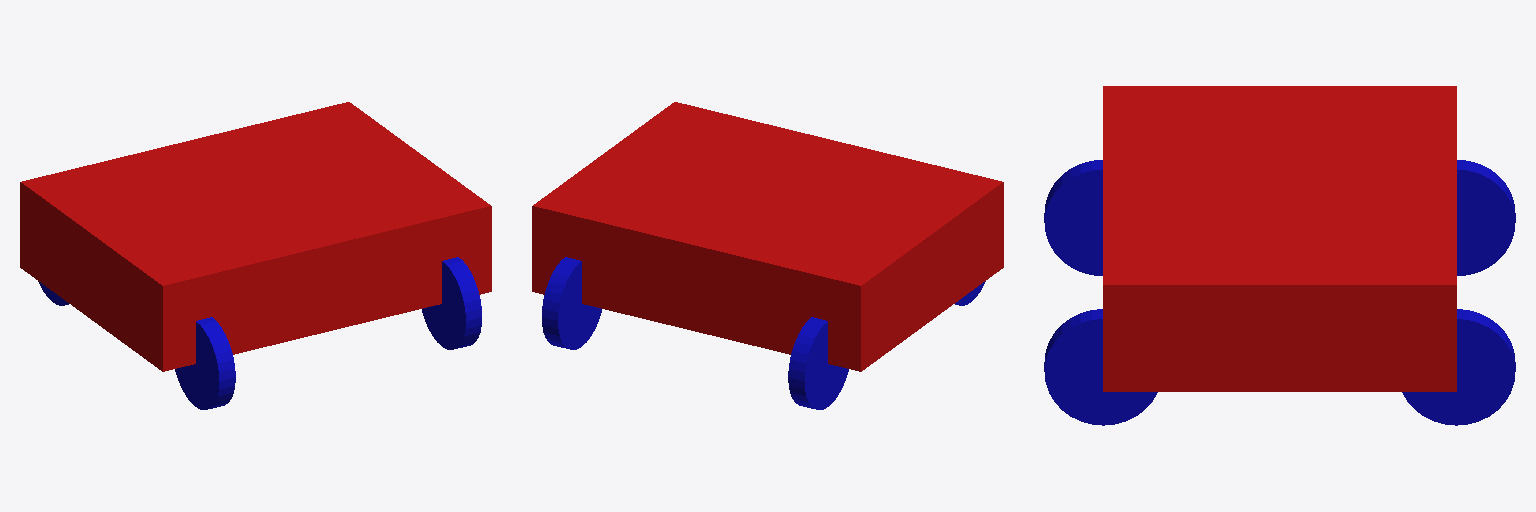
robot.urdf — skid_steer:
<?xml version="1.0" ?>
<!-- =================================================================================== -->
<!-- |    This document was autogenerated by xacro from src/skid_steer_robot/urdf/skid_steer.urdf.xacro | -->
<!-- |    EDITING THIS FILE BY HAND IS NOT RECOMMENDED                                 | -->
<!-- =================================================================================== -->
<robot name="skid_steer">
  <!-- Base link -->
  <link name="base_link">
    <visual>
      <geometry>
        <box size="0.4 0.3 0.1"/>
      </geometry>
      <material name="base_color">
        <color rgba="0.8 0.1 0.1 1.0"/>
      </material>
    </visual>
    <collision>
      <geometry>
        <box size="0.4 0.3 0.1"/>
      </geometry>
    </collision>
    <inertial>
      <mass value="10.0"/>
      <inertia ixx="0.1" ixy="0" ixz="0" iyy="0.1" iyz="0" izz="0.1"/>
    </inertial>
  </link>
  <link name="front_left_wheel">
    <visual>
      <geometry>
        <cylinder length="0.02" radius="0.05"/>
      </geometry>
      <material name="front_left_wheel_color">
        <color rgba="0.1 0.1 0.8 1.0"/>
      </material>
    </visual>
    <collision>
      <geometry>
        <cylinder length="0.02" radius="0.05"/>
      </geometry>
    </collision>
    <inertial>
      <mass value="1.0"/>
      <inertia ixx="0.01" ixy="0" ixz="0" iyy="0.01" iyz="0" izz="0.01"/>
    </inertial>
  </link>
  <joint name="front_left_wheel_joint" type="continuous">
    <parent link="base_link"/>
    <child link="front_left_wheel"/>
    <origin rpy="0 1.5708 0" xyz="0.15 0.15 -0.05"/>
    <axis xyz="0 1 0"/>
  </joint>
  <link name="front_right_wheel">
    <visual>
      <geometry>
        <cylinder length="0.02" radius="0.05"/>
      </geometry>
      <material name="front_right_wheel_color">
        <color rgba="0.1 0.1 0.8 1.0"/>
      </material>
    </visual>
    <collision>
      <geometry>
        <cylinder length="0.02" radius="0.05"/>
      </geometry>
    </collision>
    <inertial>
      <mass value="1.0"/>
      <inertia ixx="0.01" ixy="0" ixz="0" iyy="0.01" iyz="0" izz="0.01"/>
    </inertial>
  </link>
  <joint name="front_right_wheel_joint" type="continuous">
    <parent link="base_link"/>
    <child link="front_right_wheel"/>
    <origin rpy="0 1.5708 0" xyz="0.15 -0.15 -0.05"/>
    <axis xyz="0 1 0"/>
  </joint>
  <link name="rear_left_wheel">
    <visual>
      <geometry>
        <cylinder length="0.02" radius="0.05"/>
      </geometry>
      <material name="rear_left_wheel_color">
        <color rgba="0.1 0.1 0.8 1.0"/>
      </material>
    </visual>
    <collision>
      <geometry>
        <cylinder length="0.02" radius="0.05"/>
      </geometry>
    </collision>
    <inertial>
      <mass value="1.0"/>
      <inertia ixx="0.01" ixy="0" ixz="0" iyy="0.01" iyz="0" izz="0.01"/>
    </inertial>
  </link>
  <joint name="rear_left_wheel_joint" type="continuous">
    <parent link="base_link"/>
    <child link="rear_left_wheel"/>
    <origin rpy="0 1.5708 0" xyz="-0.15 0.15 -0.05"/>
    <axis xyz="0 1 0"/>
  </joint>
  <link name="rear_right_wheel">
    <visual>
      <geometry>
        <cylinder length="0.02" radius="0.05"/>
      </geometry>
      <material name="rear_right_wheel_color">
        <color rgba="0.1 0.1 0.8 1.0"/>
      </material>
    </visual>
    <collision>
      <geometry>
        <cylinder length="0.02" radius="0.05"/>
      </geometry>
    </collision>
    <inertial>
      <mass value="1.0"/>
      <inertia ixx="0.01" ixy="0" ixz="0" iyy="0.01" iyz="0" izz="0.01"/>
    </inertial>
  </link>
  <joint name="rear_right_wheel_joint" type="continuous">
    <parent link="base_link"/>
    <child link="rear_right_wheel"/>
    <origin rpy="0 1.5708 0" xyz="-0.15 -0.15 -0.05"/>
    <axis xyz="0 1 0"/>
  </joint>
  <!-- ros2_control plugin -->
  <gazebo>
    <plugin filename="libgazebo_ros2_control.so" name="ros2_control">
      <parameters>[local-path]/ros2_ws/install/skid_steer_robot/share/skid_steer_robot/config/ros2_control.yaml</parameters>
    </plugin>
  </gazebo>
</robot>

--- Facts derived from the render (not from the file) ---
3 views of the same robot in one strip: view 1: azimuth 30°, elevation 25°; view 2: azimuth 150°, elevation 25°; view 3: azimuth 270°, elevation 25° (orthographic).
Robot: skid_steer — 5 links, 4 joints (4 continuous); root link base_link; default pose: every joint at zero.
Links seen in each view (by area): view 1: base_link, front_right_wheel, rear_right_wheel; view 2: base_link, front_left_wheel, rear_left_wheel; view 3: base_link, front_left_wheel, front_right_wheel, rear_left_wheel, rear_right_wheel.
Link boxes in pixels (bbox=[...]): base_link: bbox=[20, 102, 491, 371]; front_right_wheel: bbox=[422, 257, 481, 349]; rear_right_wheel: bbox=[175, 317, 235, 409]; base_link: bbox=[532, 102, 1003, 371]; front_left_wheel: bbox=[542, 257, 601, 349]; rear_left_wheel: bbox=[788, 317, 848, 409]; base_link: bbox=[1103, 86, 1456, 391]; front_left_wheel: bbox=[1402, 309, 1515, 425]; front_right_wheel: bbox=[1044, 309, 1157, 425]; rear_left_wheel: bbox=[1457, 160, 1515, 275]; rear_right_wheel: bbox=[1044, 160, 1102, 275].
Size in the robot's own frame: 0.4 by 0.4 by 0.15 metres.
Geometry: primitives only (box / cylinder / sphere), no mesh files.